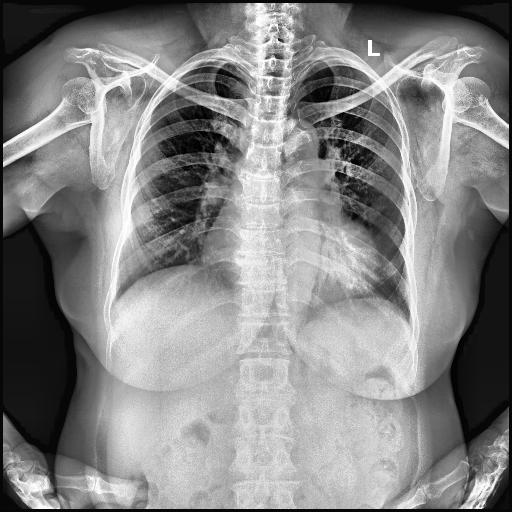0- Aortic enlargement: (283, 118, 318, 168)
3- Cardiomegaly: (201, 214, 377, 292), (199, 232, 380, 292), (200, 236, 378, 296)
7- Lung Opacity: (338, 219, 374, 249)
